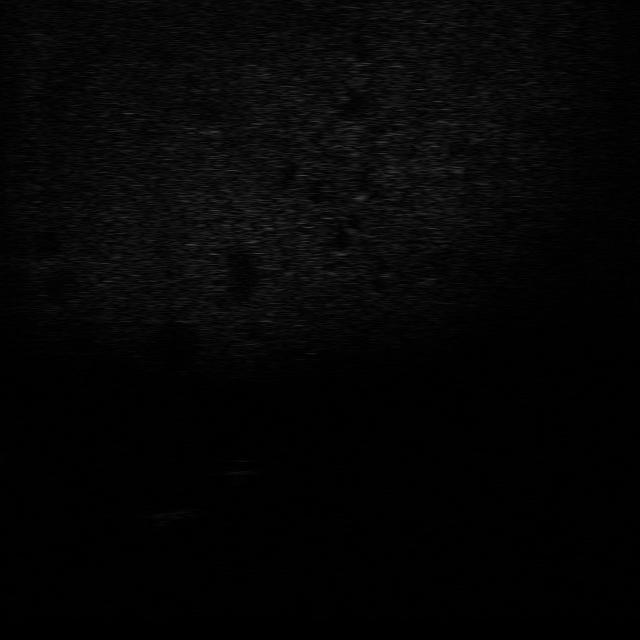ball: (204, 451, 270, 484)
square cage: (124, 501, 212, 538)
